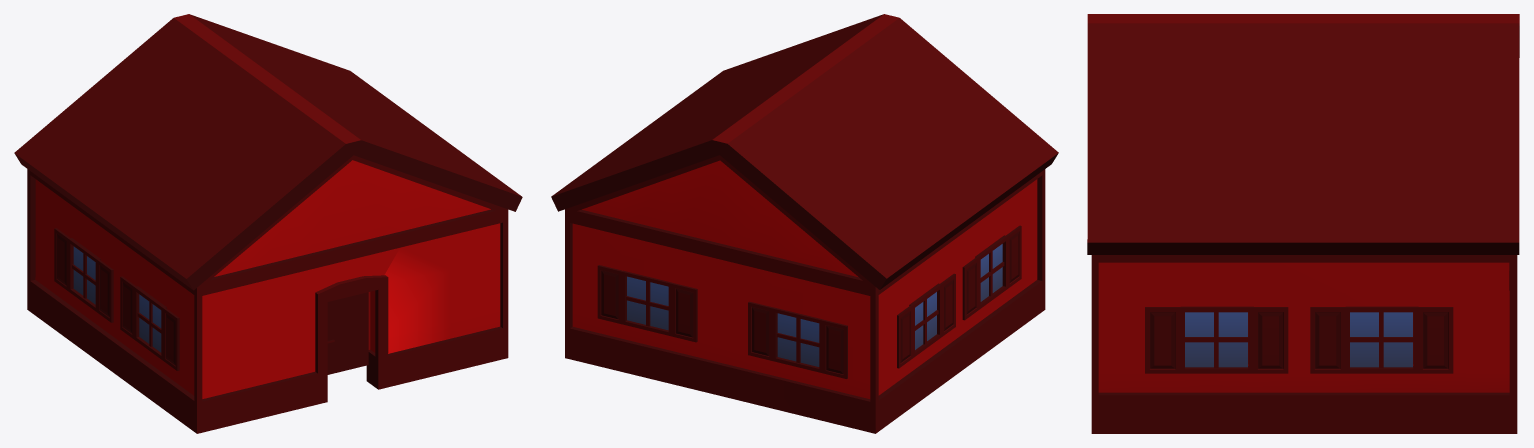
File: buildings-residential-oldcottage_v4.fbx
3 renders of one model, left to right at view 1: azimuth 30°, elevation 25°; view 2: azimuth 150°, elevation 25°; view 3: azimuth 270°, elevation 25°, orthographic. The views are drawn at different scales.
Visible parts, largest first — view 1: OldCottage_v4_base, OldCottage_v4_windowRefl; view 2: OldCottage_v4_base, OldCottage_v4_windowRefl; view 3: OldCottage_v4_base, OldCottage_v4_windowRefl.
Boxes of the visible parts, x1,y1,x2,y2 form: OldCottage_v4_base: (14, 14, 522, 433); OldCottage_v4_windowRefl: (73, 246, 161, 352); OldCottage_v4_base: (551, 14, 1058, 433); OldCottage_v4_windowRefl: (627, 244, 1002, 366); OldCottage_v4_base: (1087, 14, 1519, 433); OldCottage_v4_windowRefl: (1185, 312, 1412, 367).
Bounding box in the file's own units: 9.71 × 7.05 × 8.63.
